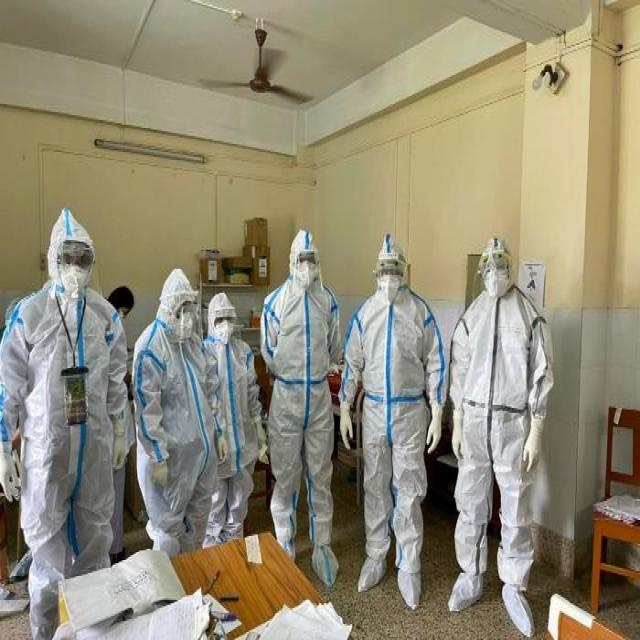Coverall: (16, 183, 132, 591), (451, 229, 549, 626), (342, 212, 437, 615), (120, 202, 210, 552), (274, 197, 351, 546), (197, 229, 253, 538)
Gloves: (100, 410, 148, 491), (131, 439, 191, 498), (241, 398, 283, 464), (416, 387, 453, 459), (195, 414, 239, 469), (438, 397, 472, 466), (0, 440, 33, 510), (520, 422, 552, 480), (324, 389, 357, 435)
Goggles: (44, 227, 100, 267), (283, 226, 327, 275), (209, 296, 247, 333), (476, 250, 516, 279), (165, 290, 199, 323), (374, 250, 405, 279)
Mask: (58, 261, 88, 299), (477, 269, 512, 299), (293, 256, 323, 288), (173, 307, 194, 346), (375, 275, 407, 299), (214, 318, 239, 344)
